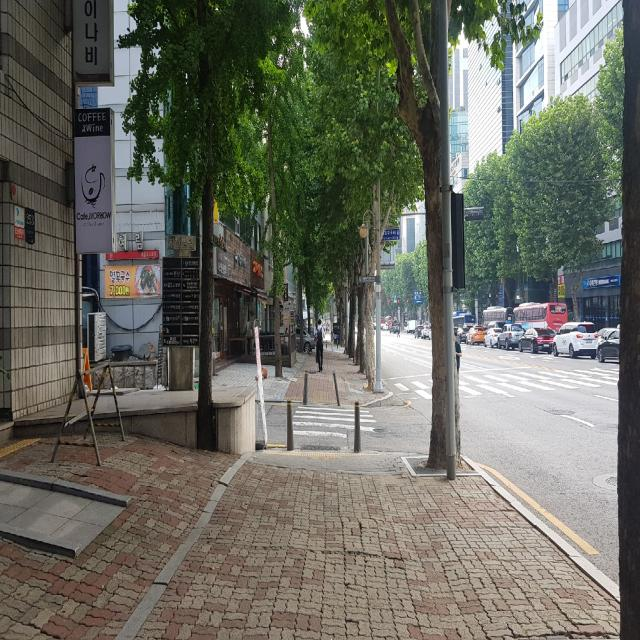횡단보도: (390, 365, 619, 394), (292, 406, 377, 438)
